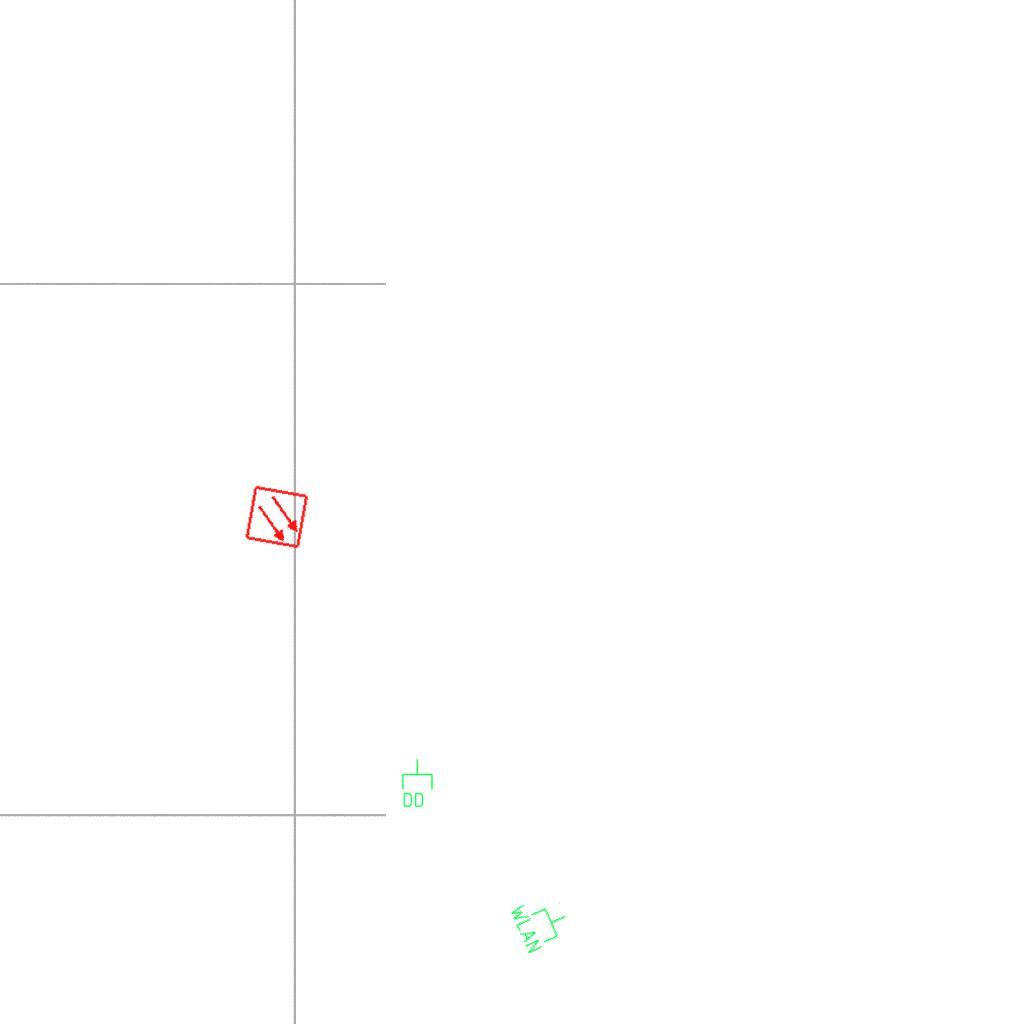Datenanschluss_zweifach: (400, 758, 434, 809)
RMO_Rauchmelder_optischer: (244, 484, 310, 550)
WLAN: (506, 887, 576, 957)
